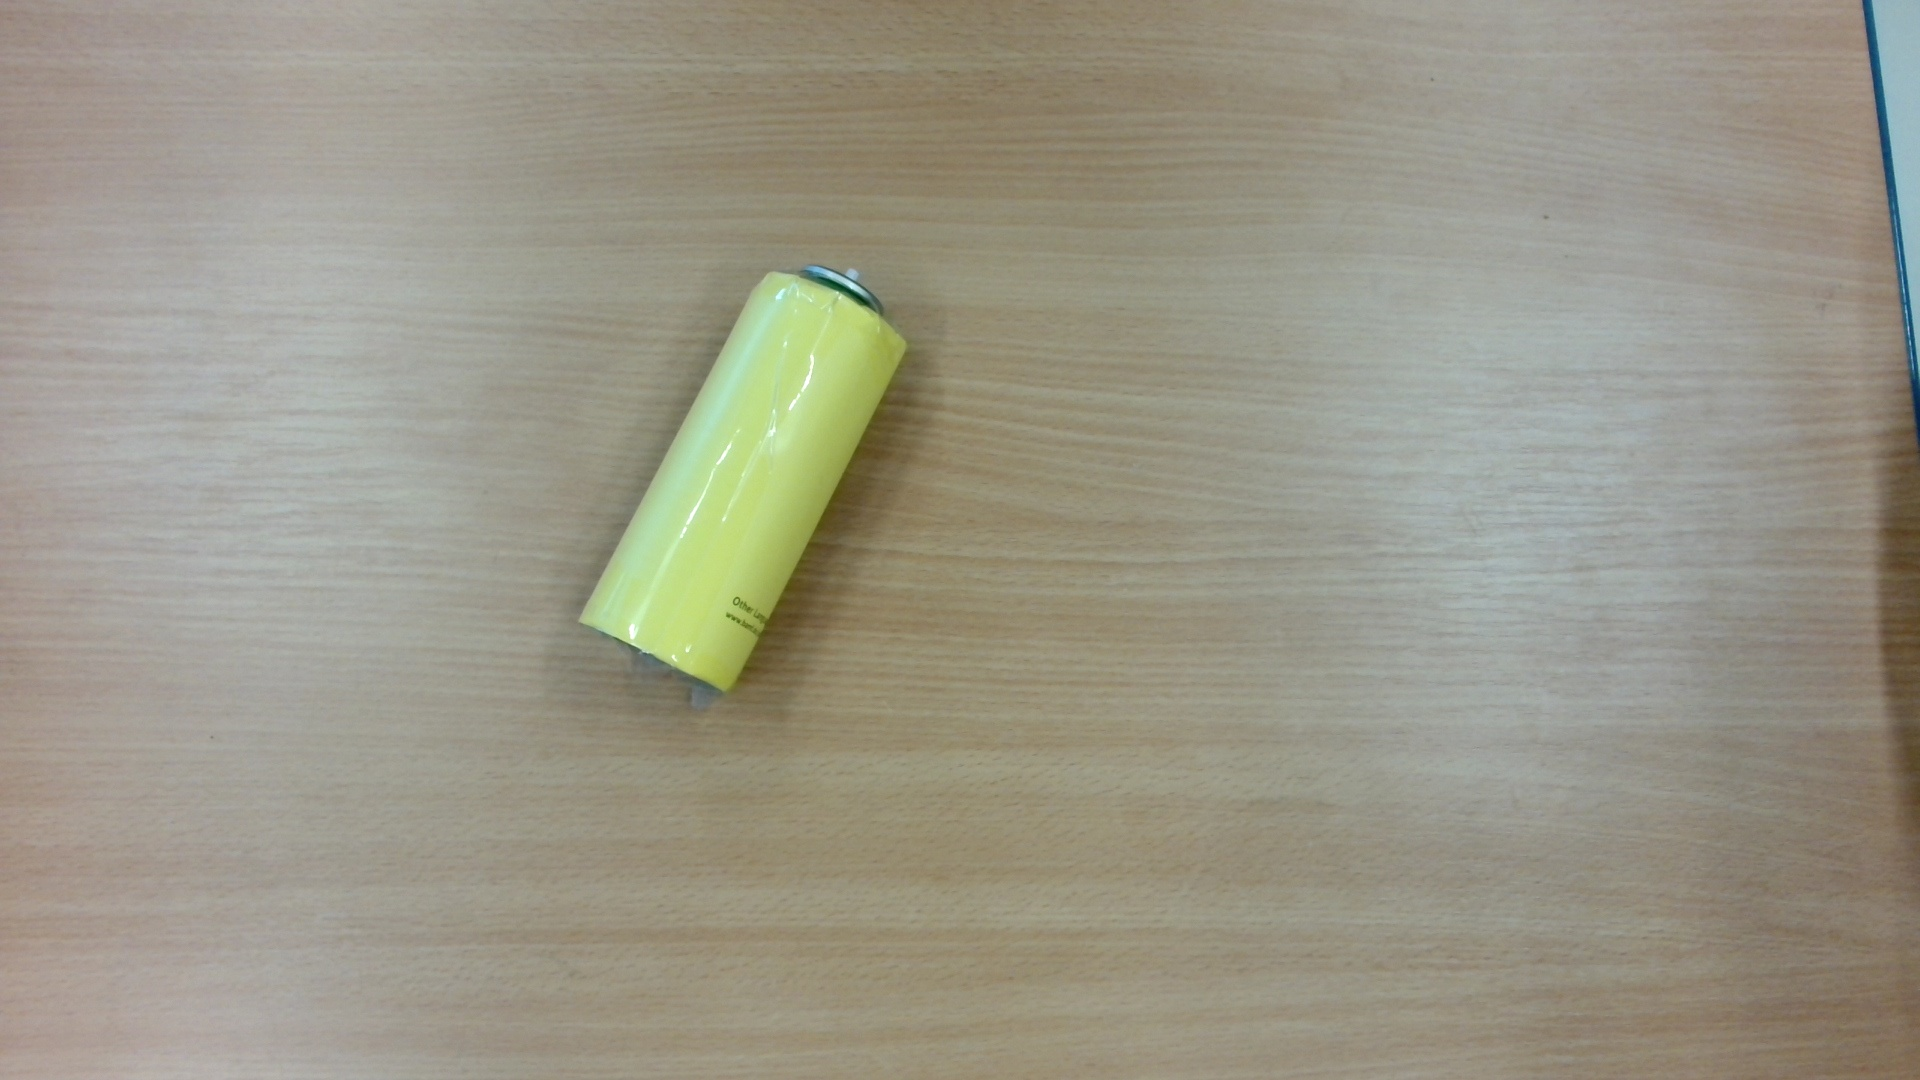Cylinder: (568, 242, 914, 740)
